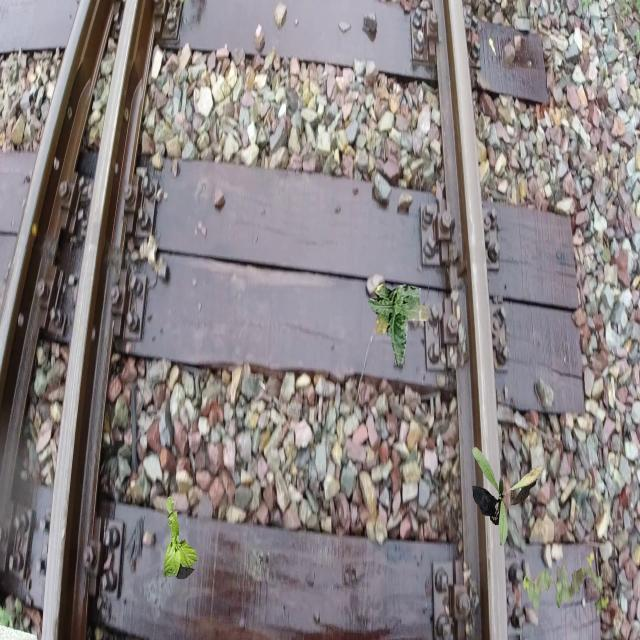Plant: (472, 447, 544, 546), (522, 551, 608, 620), (368, 284, 432, 367), (163, 496, 198, 580)
